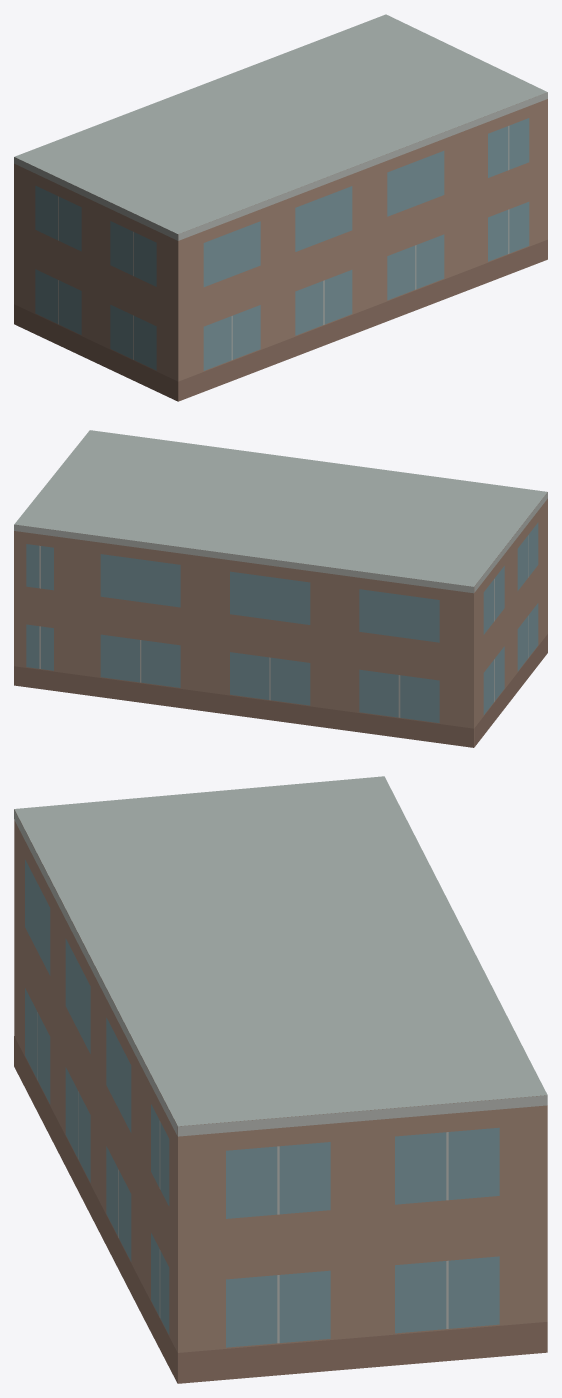
File: survey-upis-32958472.glb
The picture shows the model from 3 angles, top to bottom: view 1: azimuth 30°, elevation 25°; view 2: azimuth 150°, elevation 25°; view 3: azimuth 270°, elevation 25°; orthographic projection. The views are drawn at different scales.
Visible parts, largest first — view 1: survey-upis-32958472.tmp; view 2: survey-upis-32958472.tmp; view 3: survey-upis-32958472.tmp.
Part boxes in pixels (bbox=[...]): survey-upis-32958472.tmp: bbox=[14, 14, 547, 401]; survey-upis-32958472.tmp: bbox=[14, 430, 547, 747]; survey-upis-32958472.tmp: bbox=[14, 776, 547, 1383].
Size of the model in its own units: 17.81 by 6.1 by 11.47.
